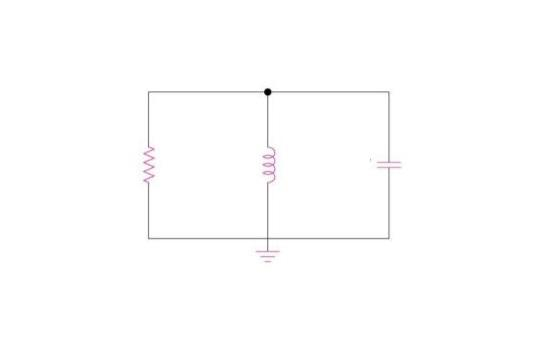resistor: (130, 132, 168, 193)
